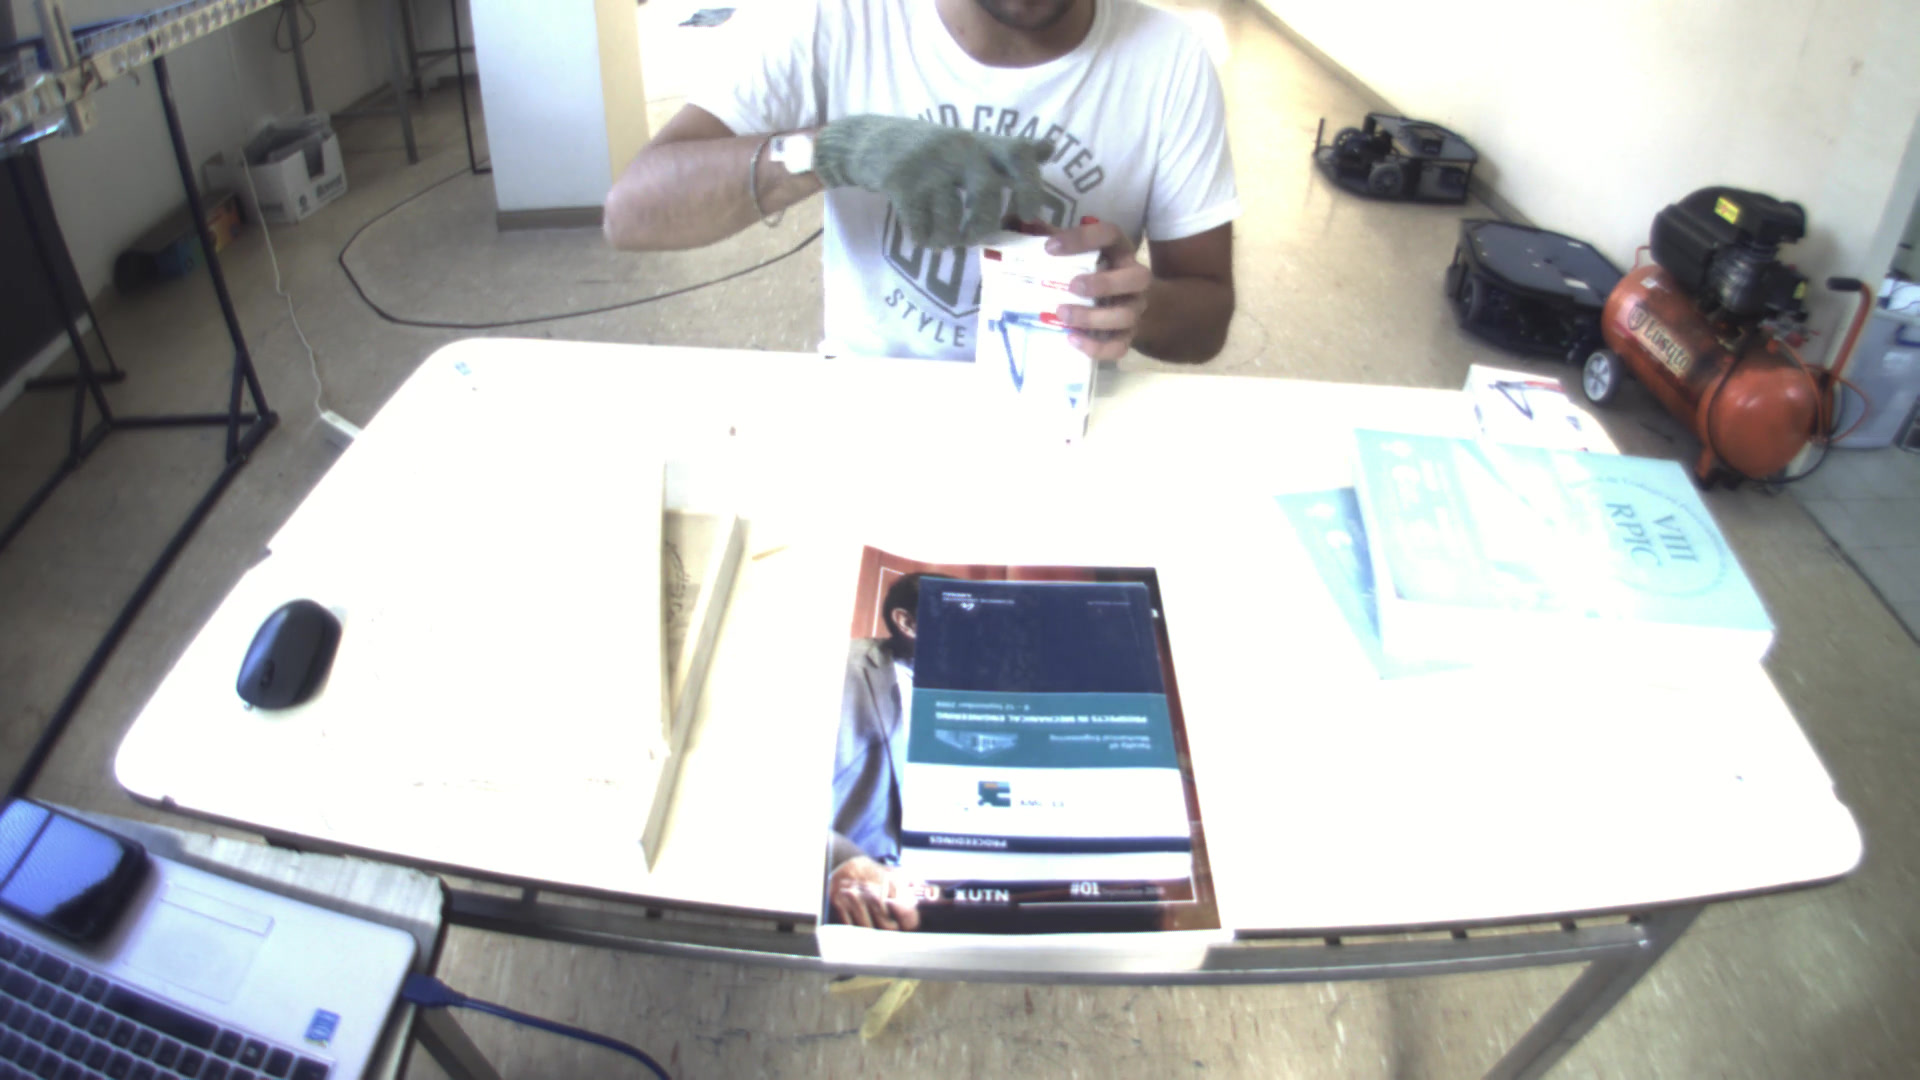hand: (804, 99, 1069, 237), (1022, 211, 1163, 378)
